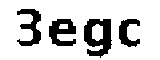3: (8, 3, 44, 50)
c: (115, 13, 146, 52)
e: (48, 15, 80, 53)
g: (80, 10, 114, 60)
